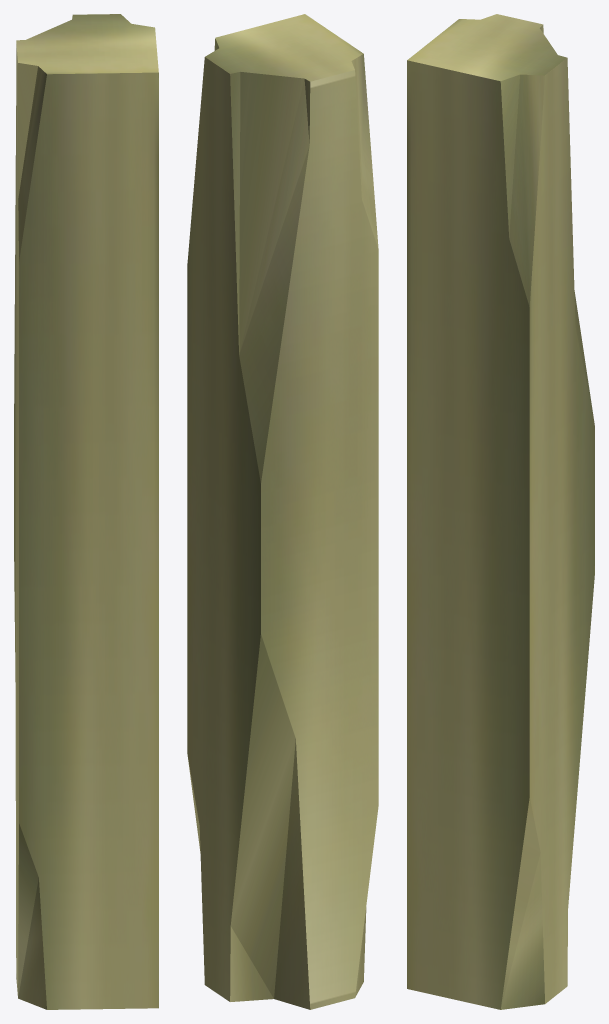
The model's file is TheOctagon_Floor_1_Col_1.gltf.
3 views of the same model, side by side, from view 1: azimuth 30°, elevation 25°; view 2: azimuth 150°, elevation 25°; view 3: azimuth 270°, elevation 25° (orthographic).
Visible parts, largest first — view 1: TheOctagon_Floor_1_Col_1; view 2: TheOctagon_Floor_1_Col_1; view 3: TheOctagon_Floor_1_Col_1.
Part boxes in pixels (<box>): TheOctagon_Floor_1_Col_1: <box>14,14,158,1009</box>; TheOctagon_Floor_1_Col_1: <box>187,14,378,1009</box>; TheOctagon_Floor_1_Col_1: <box>407,14,594,1009</box>.
Bounding box in the file's own units: 2.74 × 14.96 × 2.74.
1 material, 1 textured.
